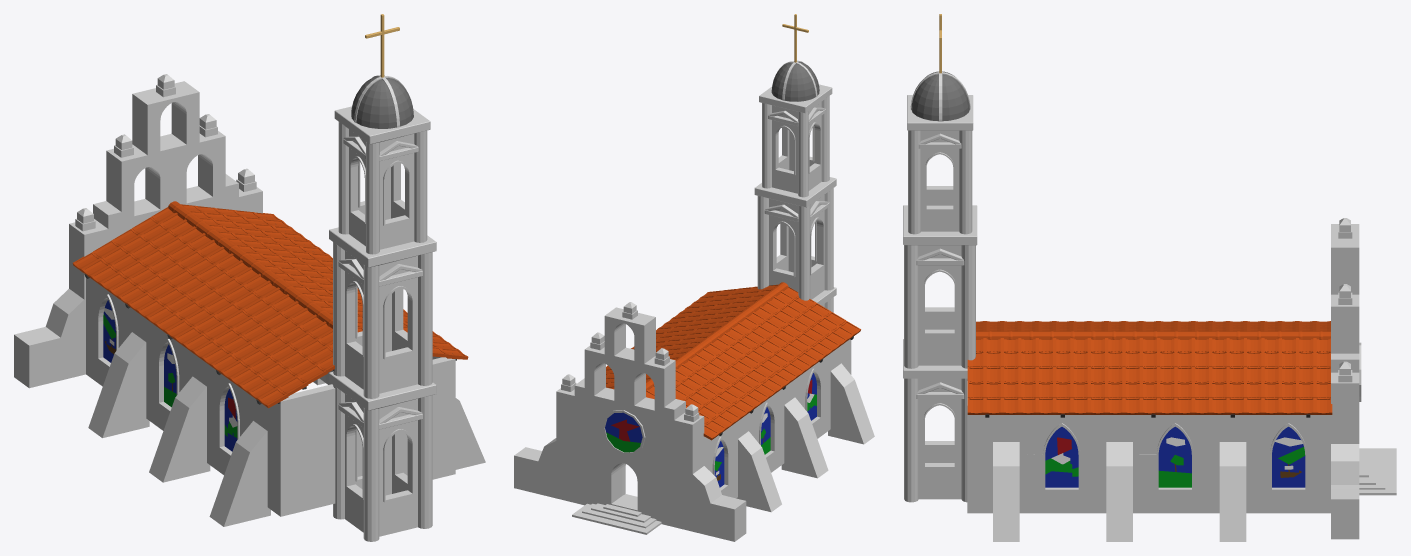
File: Chapel Level 3.fbx
The picture shows the model from 3 angles, left to right: view 1: azimuth 30°, elevation 25°; view 2: azimuth 150°, elevation 25°; view 3: azimuth 270°, elevation 25°; orthographic projection. The views are drawn at different scales.
Parts seen in each view (by area): view 1: Chapel_2_2_2, Chapel_7_2_2, Chapel_7_1_2, Chapel_3_2_1, Chapel_1_2_1, Chapel_4_2_2, Chapel_3_1_1, Chapel_2_2_1, Chapel_4_1_2, Chapel_7_1_1, Chapel_5_2_1, Chapel_5_2_2 (+8 smaller); view 2: Chapel_3_2_2, Chapel_3_1_1, Chapel_7_2_2, Chapel_3_1_2, Chapel_3_2_1, Chapel_7_1_2, Chapel_1_2_1, Chapel_2_2_1, Chapel_7_2_1, Chapel_2_2_2, Chapel_5_2_1, Chapel_4_1_2 (+6 smaller); view 3: Chapel_7_2_1, Chapel_7_1_1, Chapel_1_1_1, Chapel_2_1_1, Chapel_2_1_2, Chapel_1_1_2, Chapel_4_2_1, Chapel_4_1_1, Chapel_3_1_1, Chapel_5_1_2, Chapel_5_1_1, Chapel_3_1_2 (+6 smaller).
Boxes of the visible parts, bbox=[...] form: Chapel_2_2_2: bbox=[209, 384, 362, 526]; Chapel_7_2_2: bbox=[165, 274, 334, 408]; Chapel_7_1_2: bbox=[72, 207, 260, 333]; Chapel_3_2_1: bbox=[69, 74, 186, 261]; Chapel_1_2_1: bbox=[88, 308, 189, 438]; Chapel_4_2_2: bbox=[333, 385, 410, 541]; Chapel_3_1_1: bbox=[141, 81, 262, 213]; Chapel_2_2_1: bbox=[149, 349, 245, 482]; Chapel_4_1_2: bbox=[329, 261, 408, 410]; Chapel_7_1_1: bbox=[168, 201, 332, 278]; Chapel_5_2_1: bbox=[329, 173, 410, 294]; Chapel_5_2_2: bbox=[334, 75, 407, 201]; Chapel_3_2_2: bbox=[606, 442, 746, 541]; Chapel_3_1_1: bbox=[556, 307, 648, 457]; Chapel_7_2_2: bbox=[711, 286, 860, 387]; Chapel_3_1_2: bbox=[514, 437, 637, 524]; Chapel_3_2_1: bbox=[614, 302, 704, 453]; Chapel_7_1_2: bbox=[646, 343, 782, 440]; Chapel_1_2_1: bbox=[724, 390, 784, 512]; Chapel_2_2_1: bbox=[778, 362, 830, 478]; Chapel_7_2_1: bbox=[631, 282, 788, 348]; Chapel_2_2_2: bbox=[817, 339, 874, 444]; Chapel_5_2_1: bbox=[774, 132, 836, 227]; Chapel_4_1_2: bbox=[782, 209, 836, 305]; Chapel_7_2_1: bbox=[967, 331, 1158, 414]; Chapel_7_1_1: bbox=[1155, 331, 1332, 414]; Chapel_1_1_1: bbox=[1133, 415, 1271, 541]; Chapel_2_1_1: bbox=[968, 415, 1148, 541]; Chapel_2_1_2: bbox=[967, 381, 1047, 541]; Chapel_1_1_2: bbox=[1247, 415, 1330, 513]; Chapel_4_2_1: bbox=[904, 378, 967, 502]; Chapel_4_1_1: bbox=[903, 266, 975, 378]; Chapel_3_1_1: bbox=[1331, 237, 1361, 443]; Chapel_5_1_2: bbox=[907, 14, 973, 190]; Chapel_5_1_1: bbox=[903, 180, 977, 273]; Chapel_3_1_2: bbox=[1331, 444, 1396, 539].
Bounding box in the file's own units: 16.5 × 27.62 × 26.11.
